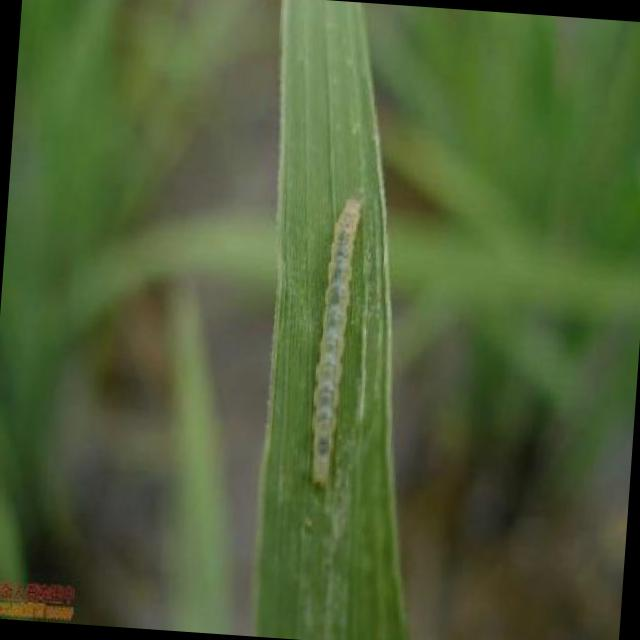leaf-folder: (279, 175, 382, 518)
